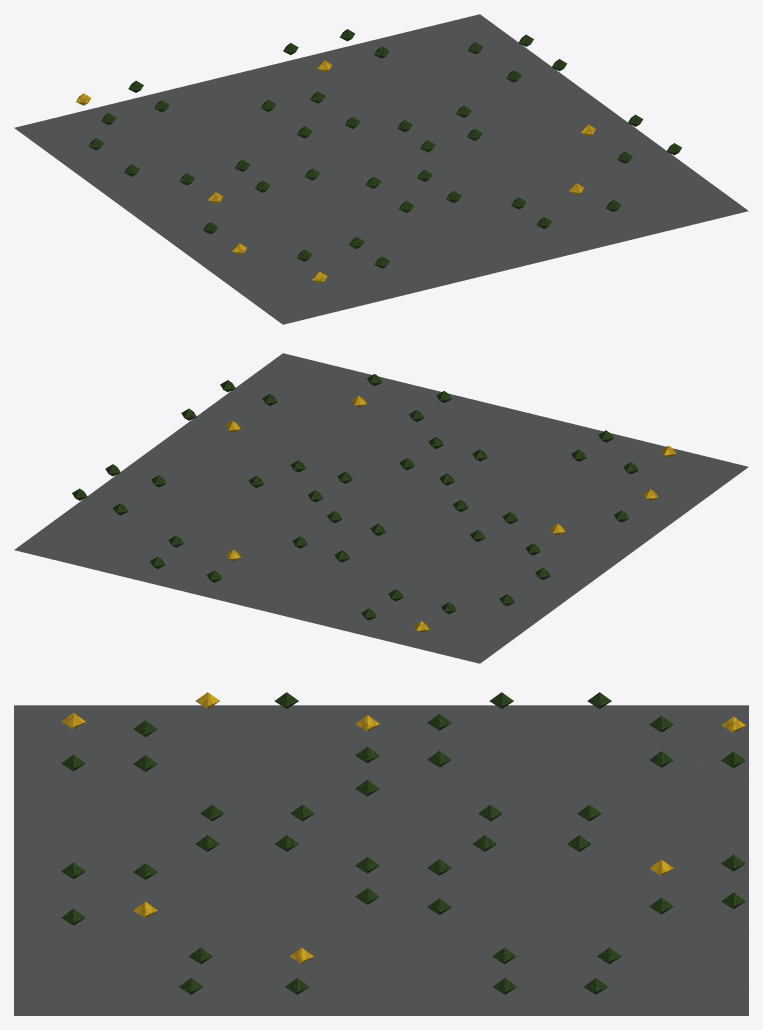
The model's file is cidade_S03_03_lod.gltf.
3 renders of one model, top to bottom at view 1: azimuth 30°, elevation 25°; view 2: azimuth 150°, elevation 25°; view 3: azimuth 270°, elevation 25°, orthographic. The views are drawn at different scales.
Visible parts, largest first — view 1: S03_03_Chao_LOD2, S03_03_Vegetacao_LOD2; view 2: S03_03_Chao_LOD2, S03_03_Vegetacao_LOD2; view 3: S03_03_Chao_LOD2, S03_03_Vegetacao_LOD2.
Boxes of the visible parts, bbox=[...] form: S03_03_Chao_LOD2: bbox=[14, 14, 748, 324]; S03_03_Vegetacao_LOD2: bbox=[76, 29, 681, 283]; S03_03_Chao_LOD2: bbox=[14, 353, 748, 663]; S03_03_Vegetacao_LOD2: bbox=[72, 374, 676, 633]; S03_03_Chao_LOD2: bbox=[14, 705, 748, 1015]; S03_03_Vegetacao_LOD2: bbox=[61, 692, 745, 994].
Bounding box in the file's own units: 100 × 4.73 × 100.
Materials: 3 (3 with a texture image).
